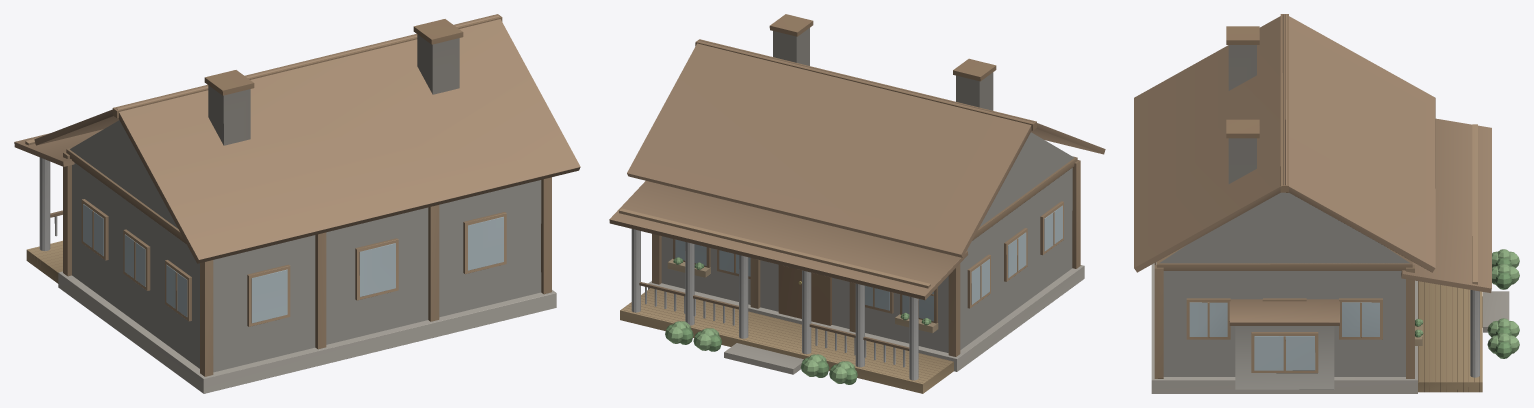
File: home_manor__brown_low.glb
3 views of the same model, side by side, from view 1: azimuth 30°, elevation 25°; view 2: azimuth 150°, elevation 25°; view 3: azimuth 270°, elevation 25° (orthographic). The views are drawn at different scales.
Size of the model in its own units: 11.05 by 6.87 by 10.14.
